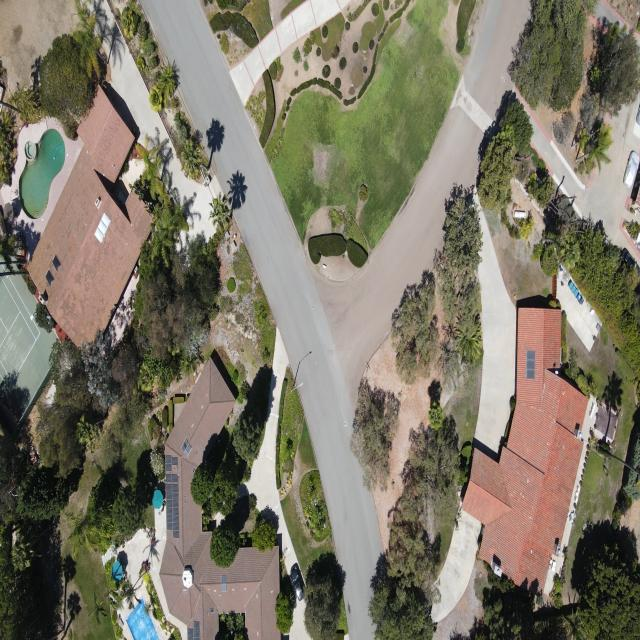solar-panels: (166, 483, 179, 538), (178, 437, 195, 458), (187, 621, 200, 640), (166, 455, 178, 471), (165, 474, 178, 482), (221, 574, 226, 592)
